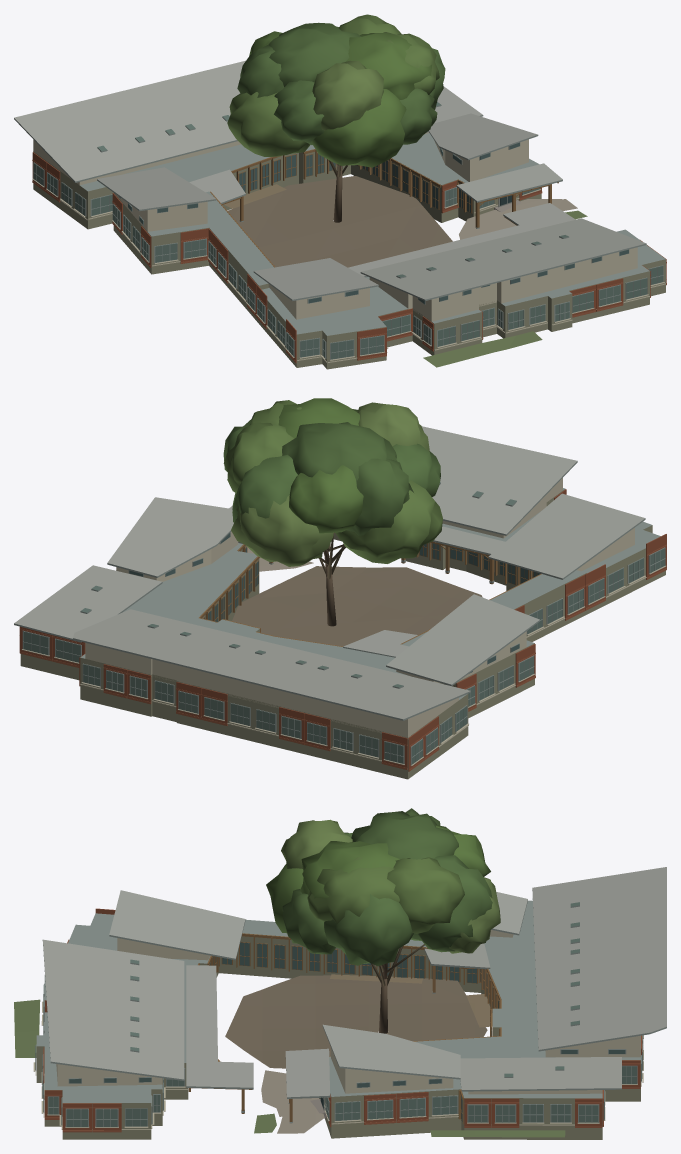
Rendered from site.glb.
The picture shows the model from 3 angles, top to bottom: view 1: azimuth 30°, elevation 25°; view 2: azimuth 150°, elevation 25°; view 3: azimuth 270°, elevation 25°; orthographic projection. The views are drawn at different scales.
Parts seen in each view (by area): view 1: roof-72c79877, moss-street-water-oak, moss-street-approach; view 2: roof-72c79877, moss-street-water-oak, moss-street-approach; view 3: roof-72c79877, moss-street-water-oak, moss-street-approach.
Boxes of the visible parts, x1,y1,x2,y2 form: roof-72c79877: (14, 60, 666, 369); moss-street-water-oak: (227, 14, 445, 222); moss-street-approach: (224, 176, 587, 367); roof-72c79877: (14, 426, 666, 779); moss-street-water-oak: (223, 398, 442, 626); moss-street-approach: (232, 547, 482, 646); roof-72c79877: (33, 867, 666, 1139); moss-street-water-oak: (266, 808, 500, 1033); moss-street-approach: (14, 974, 565, 1137).
Bounding box in the file's own units: 47.08 × 22.37 × 61.46.
